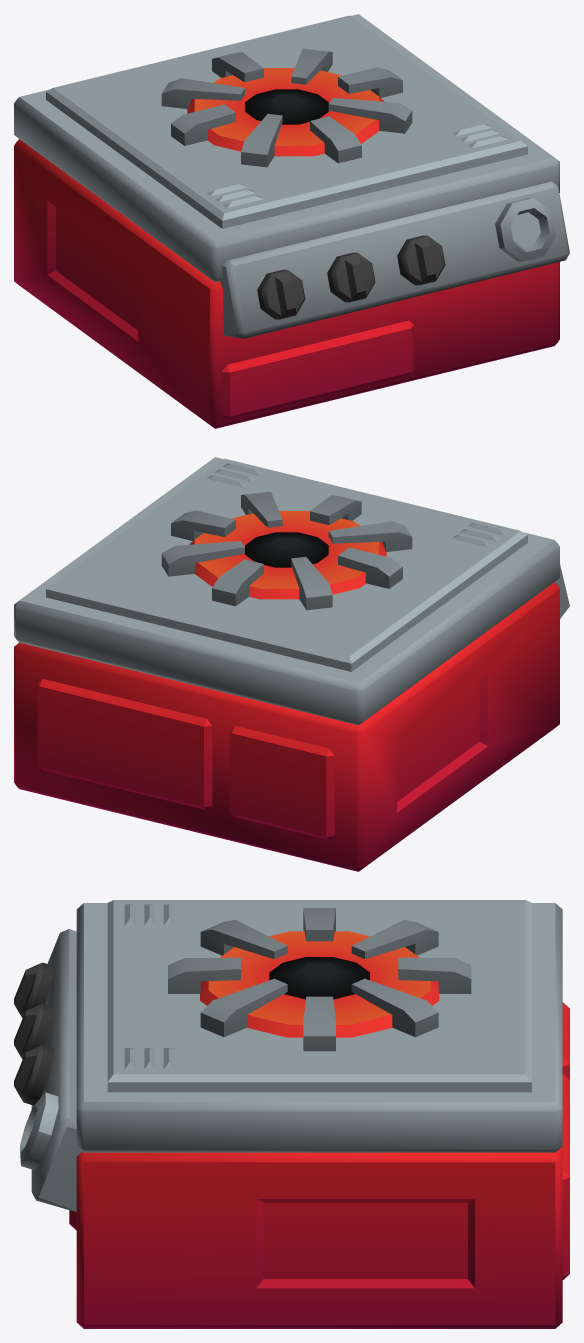
File: kr_stove.glb
3 renders of one model, top to bottom at view 1: azimuth 30°, elevation 25°; view 2: azimuth 150°, elevation 25°; view 3: azimuth 270°, elevation 25°, orthographic. The views are drawn at different scales.
Parts seen in each view (by area): view 1: stove_single; view 2: stove_single; view 3: stove_single.
Part boxes in pixels (box(x1,y1,x2,y2)): stove_single: box(14, 14, 569, 428); stove_single: box(14, 457, 569, 871); stove_single: box(14, 900, 569, 1328).
Size of the model in its own units: 2 by 1.21 by 2.29.
1 material, 1 textured.
